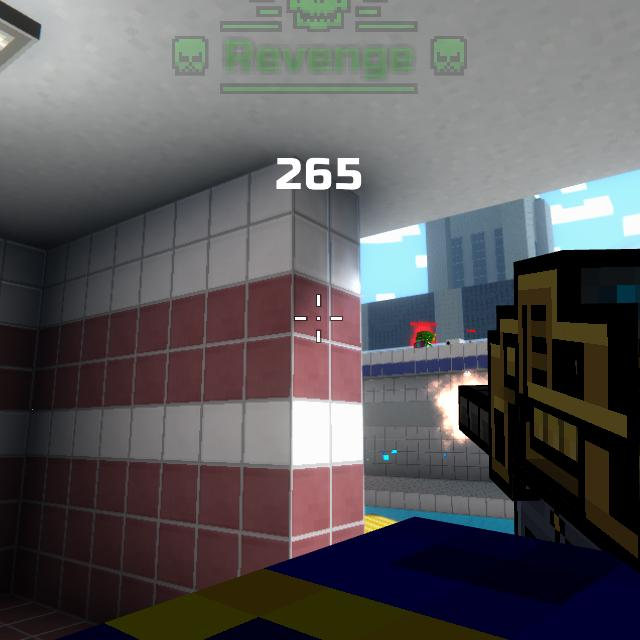Enemy: (414, 331, 436, 349)
